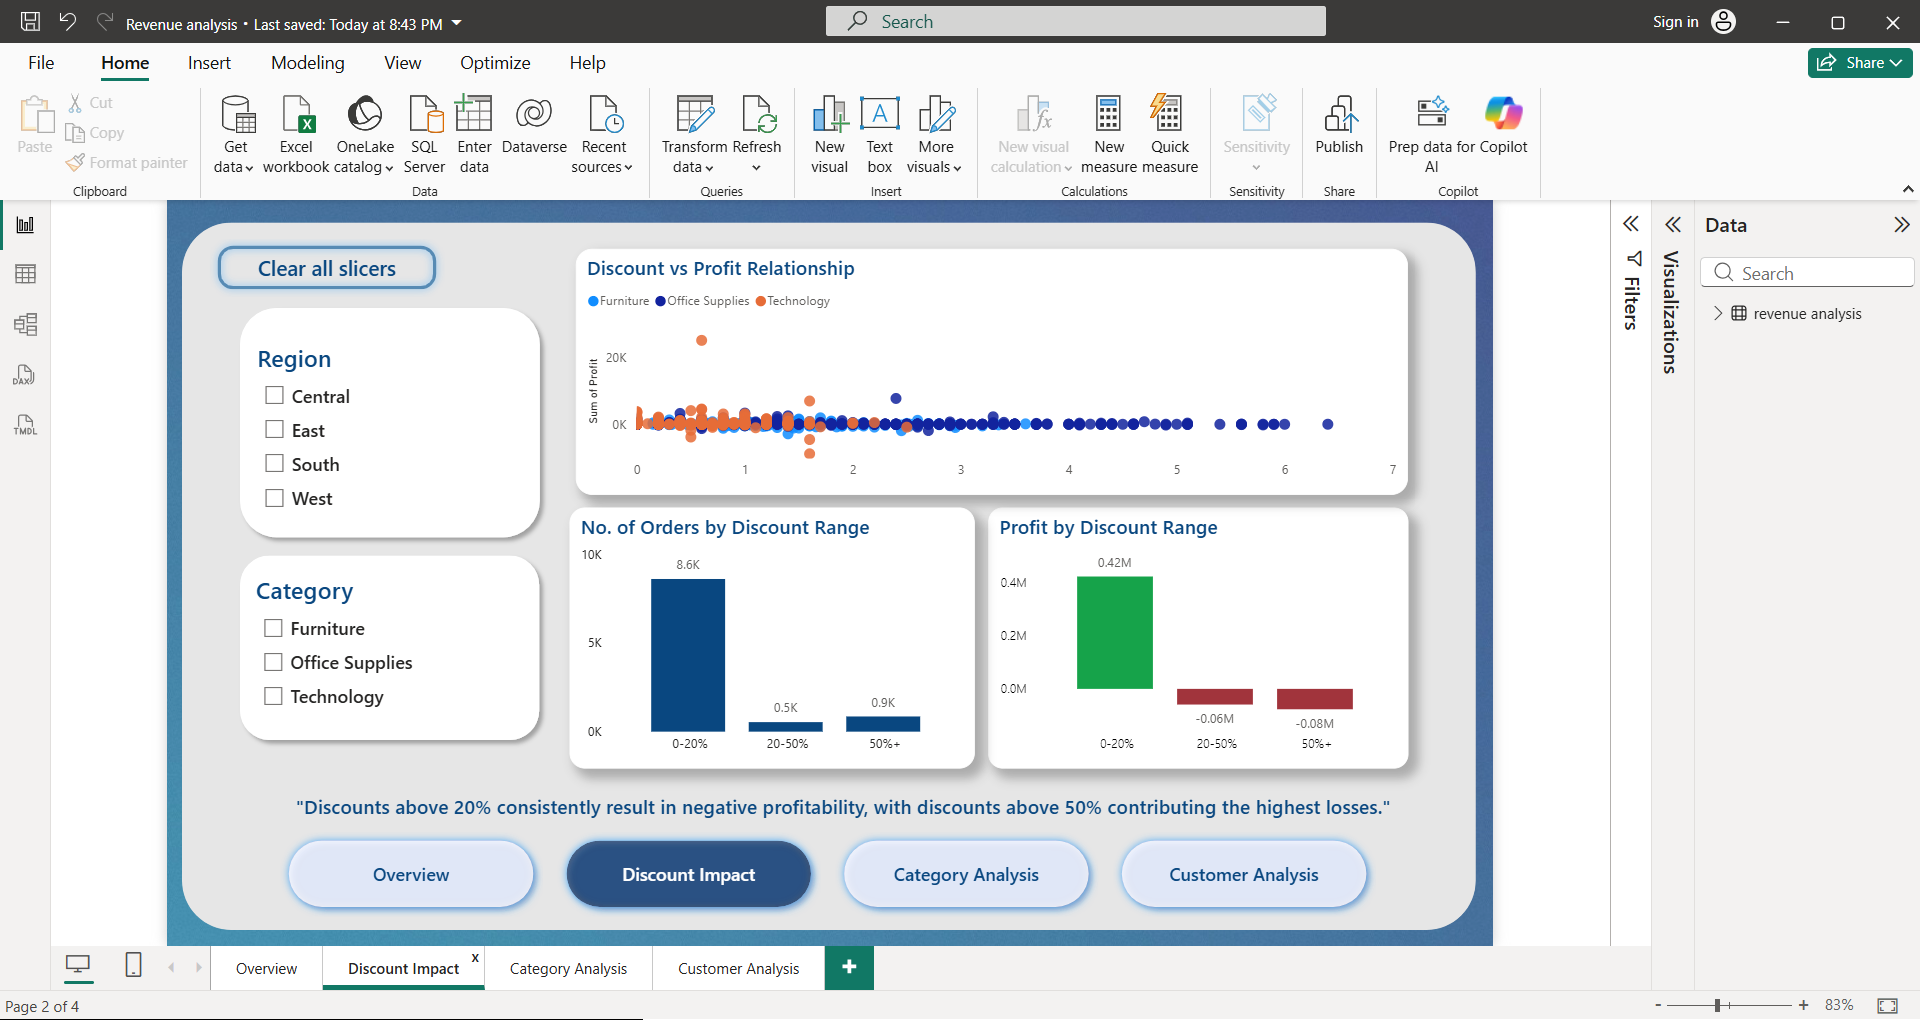

Layout of this report page (visuals, bound fields, positions):
{"tool":"powerbi","page":{"name":"Discount Impact","canvas":[1280,720],"ordinal":1},"visuals":[{"type":"shape","box":[14.5,21.7,1248.7,682.8],"z":0},{"type":"clusteredColumnChart","title":" Profit by Discount Range","fields":{"Y":["Sum(revenue analysis.Profit)"],"Category":["revenue analysis.Discount Range"]},"box":[792.6,296.8,405.4,252.1],"z":1000},{"type":"scatterChart","title":"Discount vs Profit Relationship","fields":{"X":["Sum(revenue analysis.Discount)"],"Y":["Sum(revenue analysis.Profit)"],"Series":["revenue analysis.Category"],"Category":["revenue analysis.Product ID"]},"box":[394.3,47.5,803.2,237.3],"z":2000},{"type":"textbox","box":[88.1,568.2,1129.2,41],"z":3000},{"type":"pageNavigator","box":[108.6,609.3,1061.7,82],"z":4000},{"type":"clusteredColumnChart","title":"No. of Orders by  Discount Range","fields":{"Category":["revenue analysis.Discount Range"],"Y":["CountNonNull(revenue analysis.Order ID)"]},"box":[388.5,296.8,390.9,252.1],"z":5000},{"type":"group","id":"g1","title":"Group 1","box":[62.1,94.9,306.7,239.7],"z":6000},{"type":"shape","box":[62.1,94.9,307.2,239.2],"z":7000,"group":"g1"},{"type":"group","id":"g2","title":"Group 2","box":[62.1,334.7,306.7,195.9],"z":7000},{"type":"actionButton","box":[41,36.2,226.8,57.9],"z":8000},{"type":"slicer","title":"Region","fields":{"Values":["revenue analysis.Region"]},"box":[82.4,136.5,268.6,176.8],"z":8000,"group":"g1"},{"type":"shape","box":[62.1,334.7,306.7,195.9],"z":9000,"group":"g2"},{"type":"slicer","title":"Category","fields":{"Values":["revenue analysis.Category"]},"box":[81.3,361.6,269.3,148.1],"z":11000,"group":"g2"}]}

Visuals, with their boxes on the page's 1280x720 design canvas (x1, y1, x2, y2). These are canvas units, not pixel positions in the 1920x1020 screenshot, which may show the page scaled, cropped or inside an application window:
shape: bbox=[14, 22, 1263, 704]
" Profit by Discount Range" clusteredColumnChart: bbox=[793, 297, 1198, 549]
"Discount vs Profit Relationship" scatterChart: bbox=[394, 48, 1198, 285]
textbox: bbox=[88, 568, 1217, 609]
pageNavigator: bbox=[109, 609, 1170, 691]
"No. of Orders by  Discount Range" clusteredColumnChart: bbox=[388, 297, 779, 549]
"Group 1" group: bbox=[62, 95, 369, 335]
shape: bbox=[62, 95, 369, 334]
"Group 2" group: bbox=[62, 335, 369, 531]
actionButton: bbox=[41, 36, 268, 94]
"Region" slicer: bbox=[82, 136, 351, 313]
shape: bbox=[62, 335, 369, 531]
"Category" slicer: bbox=[81, 362, 351, 510]
